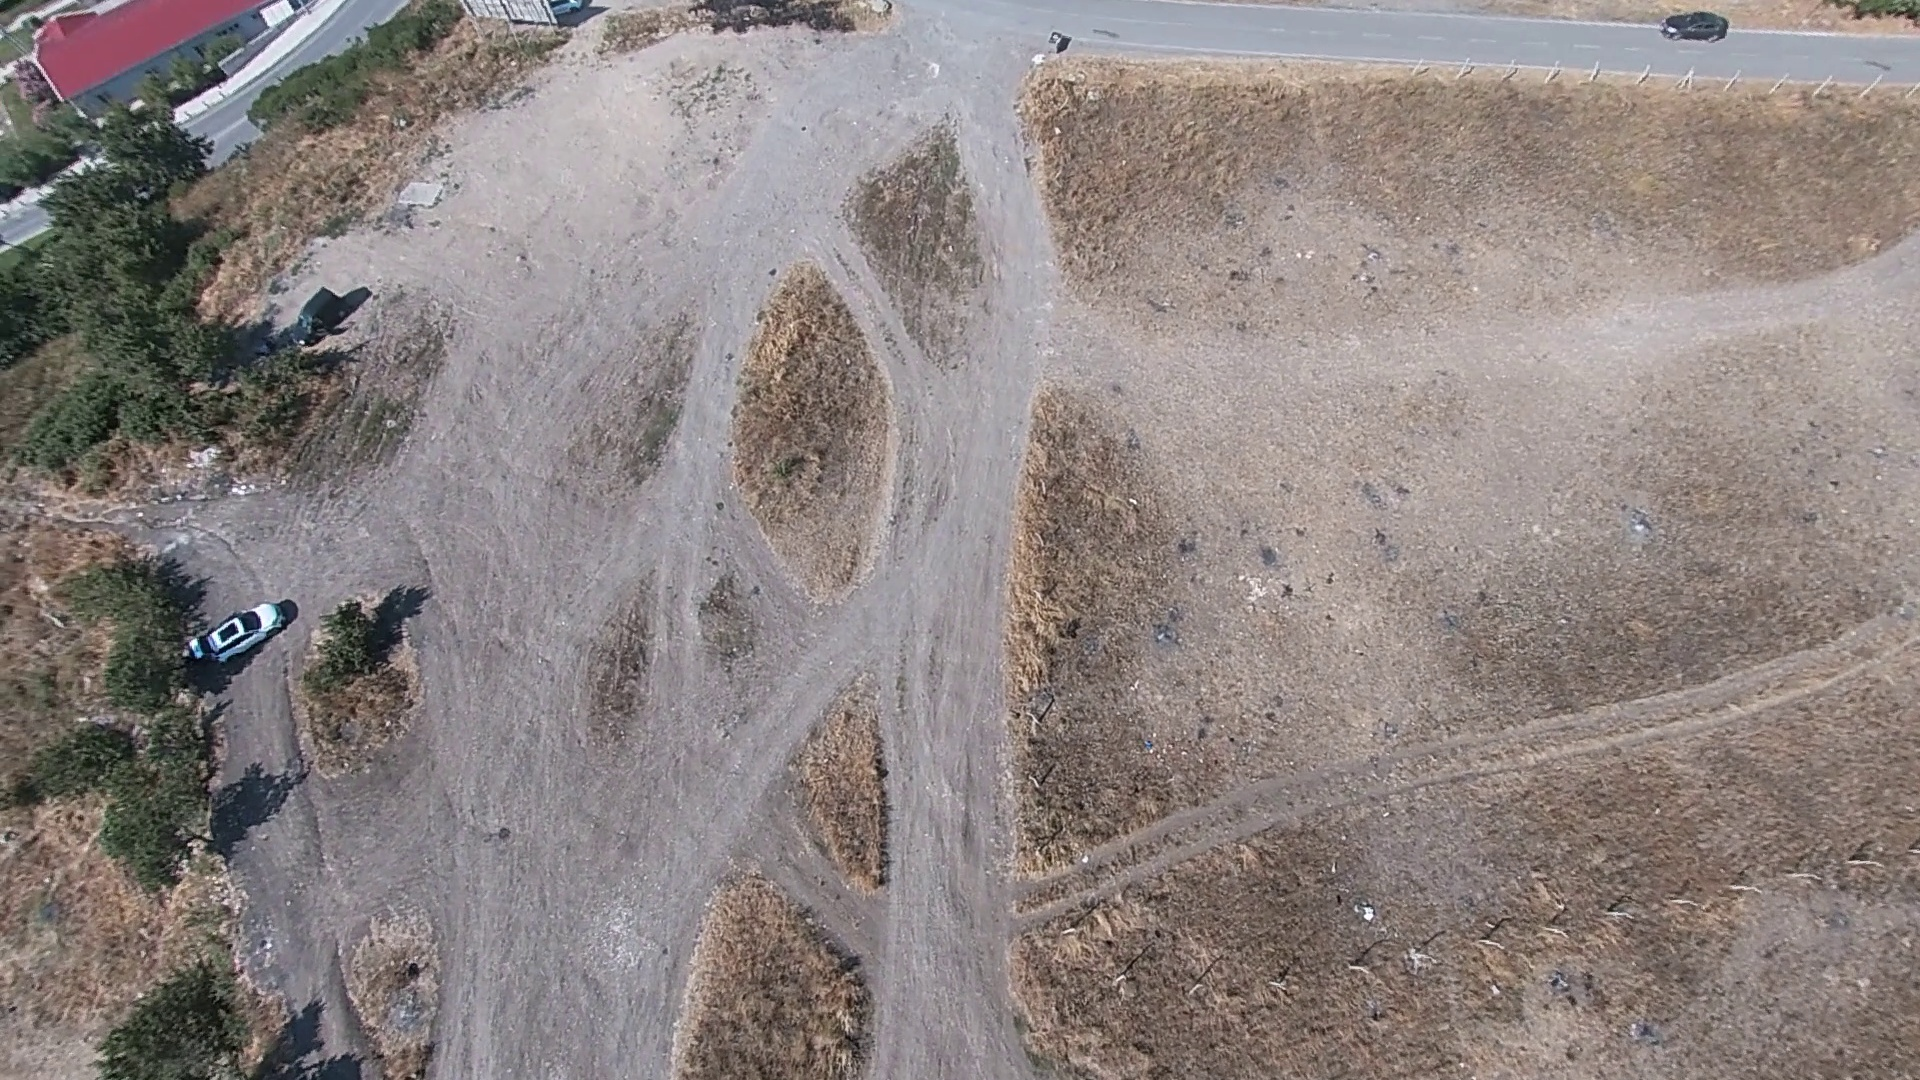arac: (186, 599, 290, 665), (295, 276, 349, 334)
